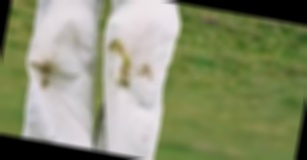earth: (35, 57, 60, 90), (117, 58, 136, 87), (136, 61, 155, 81), (107, 38, 127, 55)
